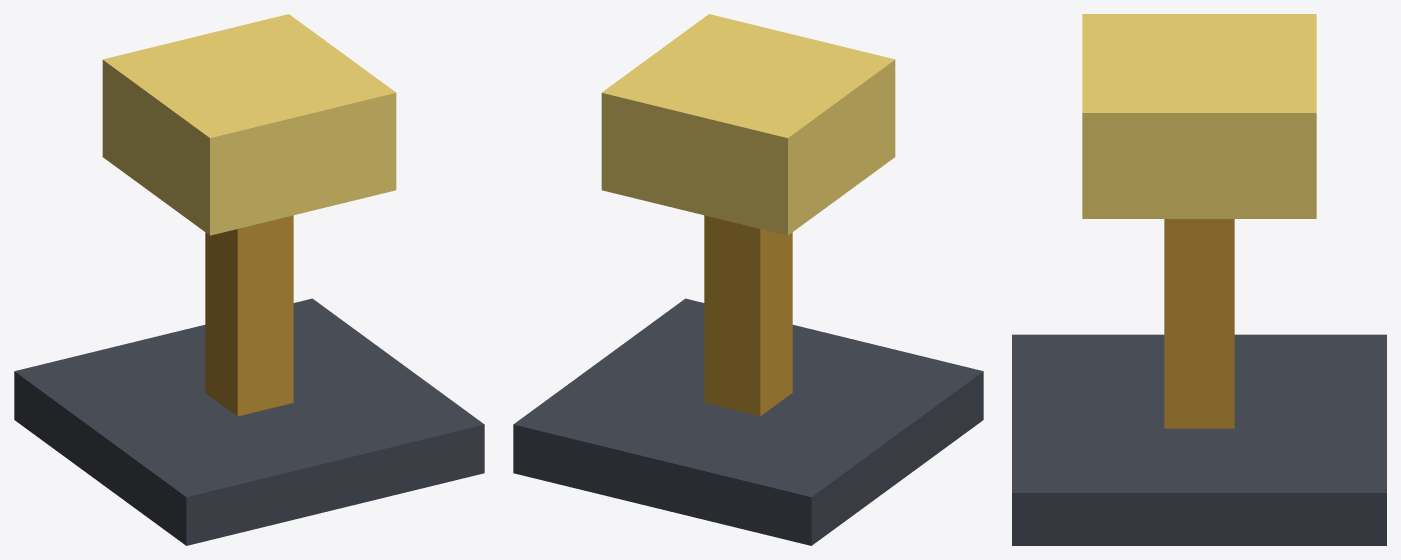
File: beacon.obj
The picture shows the model from 3 angles, left to right: view 1: azimuth 30°, elevation 25°; view 2: azimuth 150°, elevation 25°; view 3: azimuth 270°, elevation 25°; orthographic projection. The views are drawn at different scales.
Visible parts, largest first — view 1: Beacon; view 2: Beacon; view 3: Beacon.
Boxes of the visible parts, bbox=[...] form: Beacon: bbox=[14, 14, 484, 545]; Beacon: bbox=[513, 14, 983, 545]; Beacon: bbox=[1012, 14, 1386, 545].
Size of the model in its own units: 1.6 by 1.9 by 1.6.
